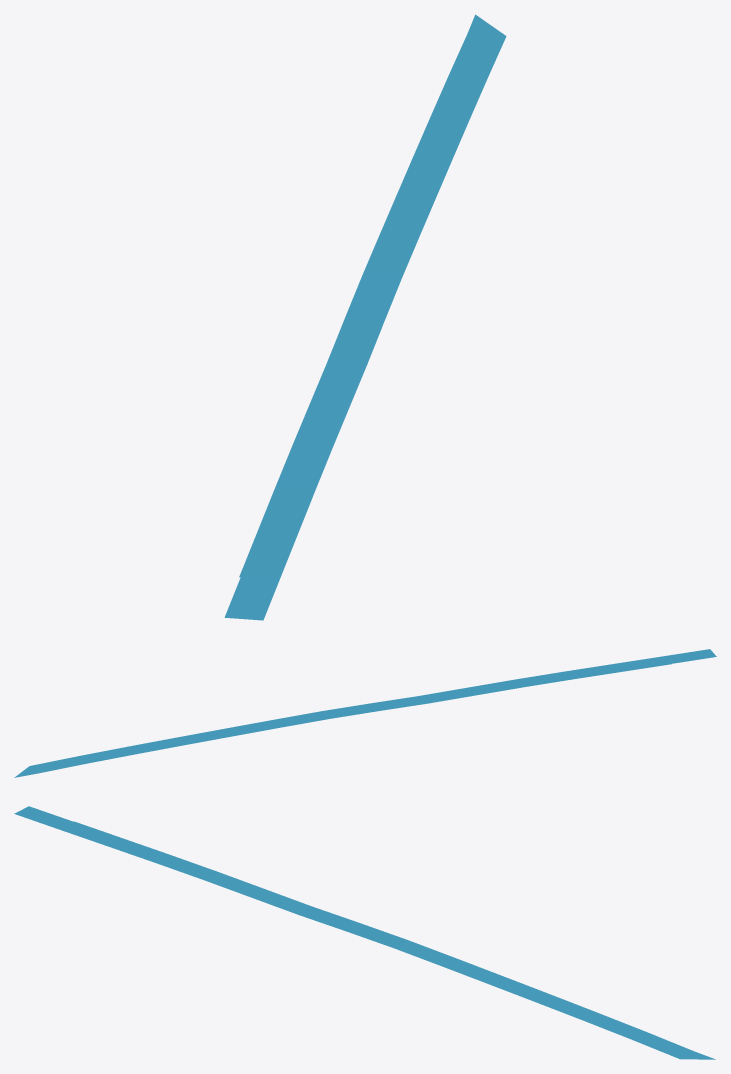
Rendered from churchill-meadows-transitway-transitway.glb.
3 views of the same model, one above another, from view 1: azimuth 30°, elevation 25°; view 2: azimuth 150°, elevation 25°; view 3: azimuth 270°, elevation 25° (orthographic). The views are drawn at different scales.
Visible parts, largest first — view 1: service-guide-transitway-1090150-dedicated-busway-0-0, service-guide-transitway-1090151-dedicated-busway-1-0; view 2: service-guide-transitway-1090150-dedicated-busway-0-0, service-guide-transitway-1090151-dedicated-busway-1-0; view 3: service-guide-transitway-1090150-dedicated-busway-0-0, service-guide-transitway-1090151-dedicated-busway-1-0.
Part boxes in pixels (<box>): service-guide-transitway-1090150-dedicated-busway-0-0: <box>224,14,506,620</box>; service-guide-transitway-1090151-dedicated-busway-1-0: <box>239,15,505,577</box>; service-guide-transitway-1090150-dedicated-busway-0-0: <box>14,649,716,777</box>; service-guide-transitway-1090151-dedicated-busway-1-0: <box>31,664,671,773</box>; service-guide-transitway-1090150-dedicated-busway-0-0: <box>14,806,715,1059</box>; service-guide-transitway-1090151-dedicated-busway-1-0: <box>74,821,693,1059</box>.
Size of the model in its own units: 72.63 by 1.86 by 89.62.
